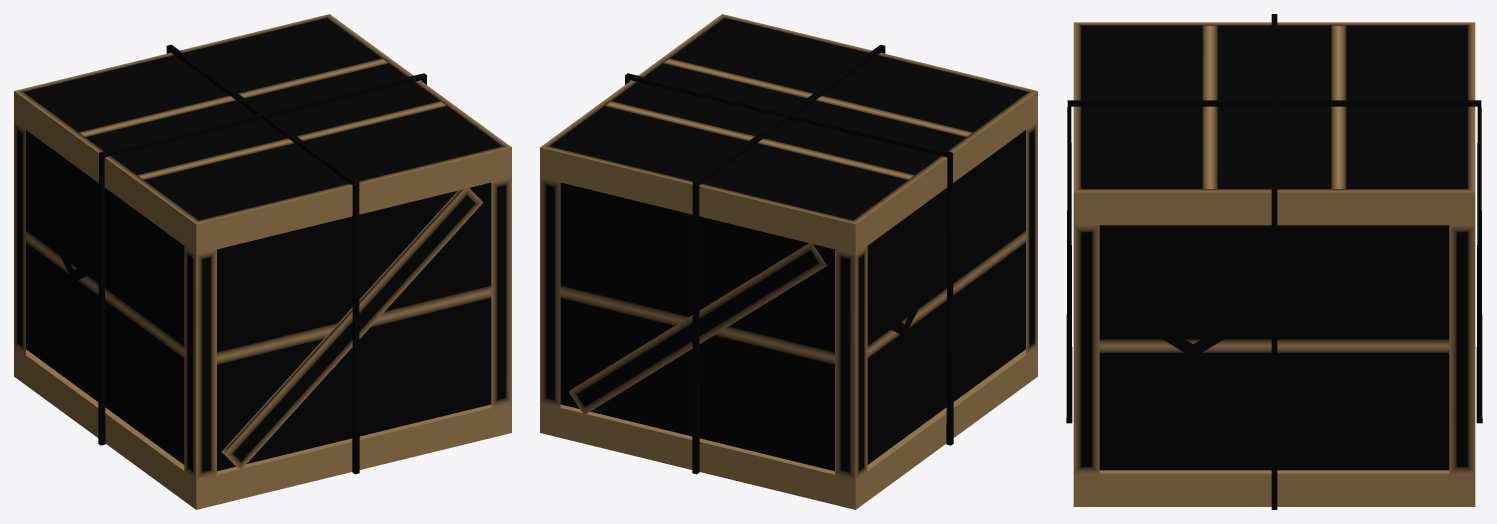
The model's file is stowed_crate_80.glb.
3 renders of one model, left to right at view 1: azimuth 30°, elevation 25°; view 2: azimuth 150°, elevation 25°; view 3: azimuth 270°, elevation 25°, orthographic. The views are drawn at different scales.
Parts seen in each view (by area): view 1: body, battens, lashing, stencils; view 2: body, battens, lashing, stencils; view 3: body, battens, lashing, stencils.
Boxes of the visible parts, <box> form: body: <box>24,18,501,471</box>; battens: <box>14,14,511,509</box>; lashing: <box>98,44,426,474</box>; stencils: <box>48,220,98,328</box>; body: <box>550,18,1027,471</box>; battens: <box>540,14,1037,509</box>; lashing: <box>625,44,953,474</box>; stencils: <box>879,274,929,382</box>; body: <box>1081,25,1467,470</box>; battens: <box>1073,22,1475,506</box>; lashing: <box>1066,14,1482,509</box>; stencils: <box>1137,289,1248,390</box>.
Bounding box in the file's own units: 0.7953 × 0.6763 × 0.7953.
